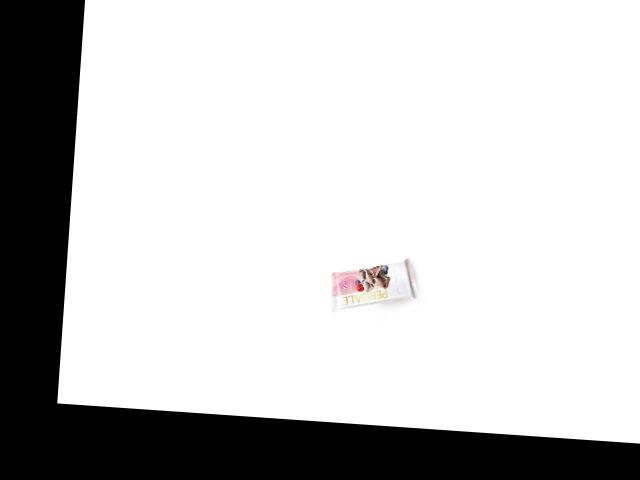chocolate: (329, 251, 416, 317)
